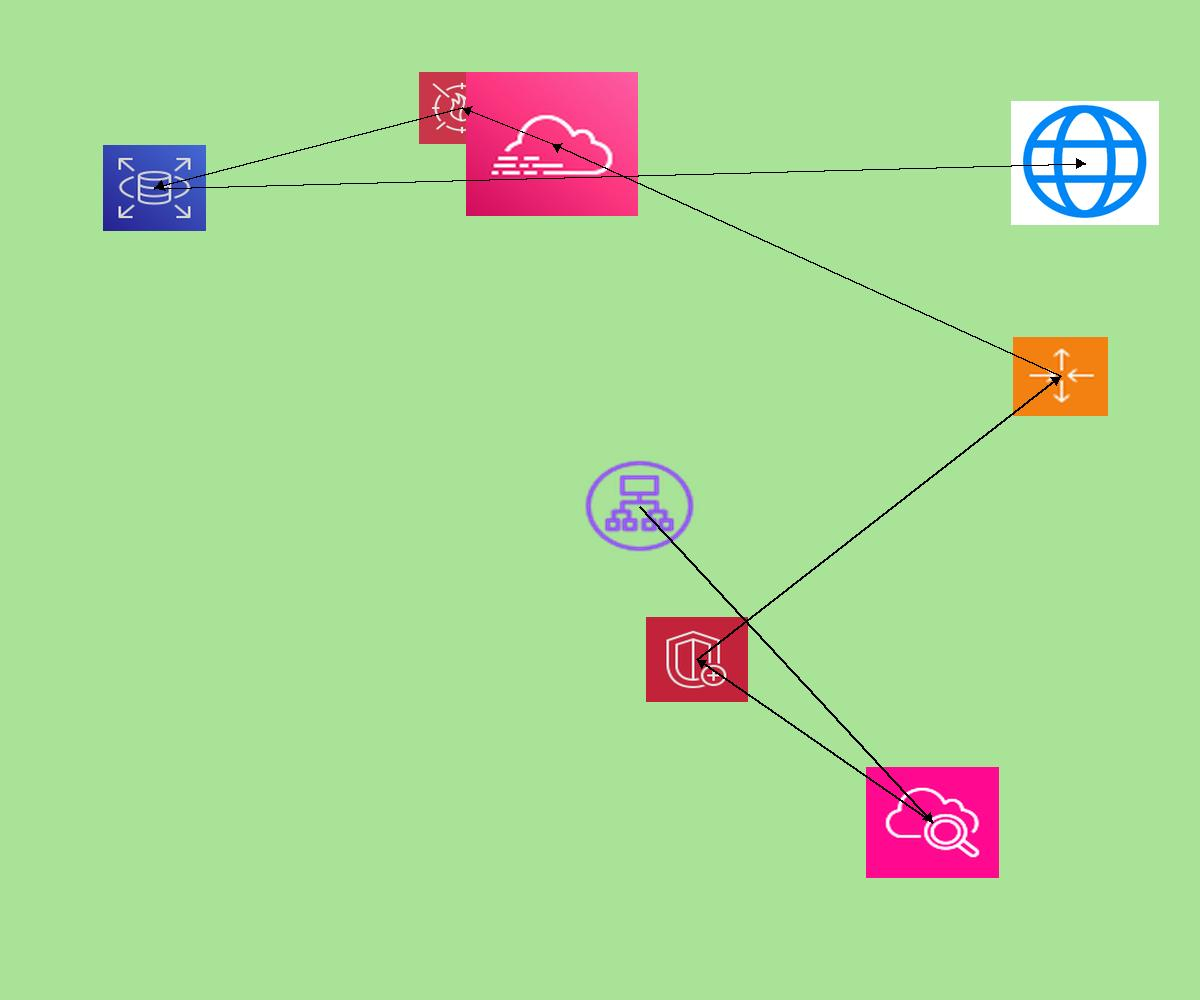AWS-CloudTrail: (466, 72, 638, 216)
AWS-CloudWatch: (866, 767, 999, 878)
AWS-RDS: (103, 145, 206, 231)
AWS-Res_Elastic-Load-Balancing_Application-Load-Balancer: (581, 457, 698, 555)
AWS-Scaling-group: (1013, 337, 1108, 416)
AWS-Shield: (646, 617, 748, 702)
AWS-WAF: (419, 72, 505, 144)
Azure_http: (1011, 101, 1159, 225)
